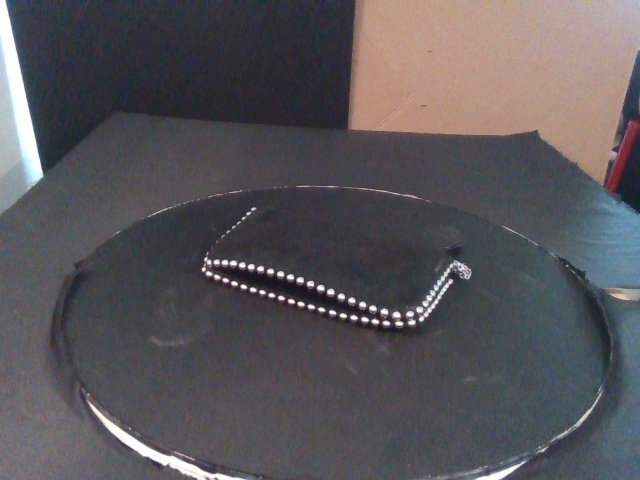bag: (201, 207, 460, 327)
